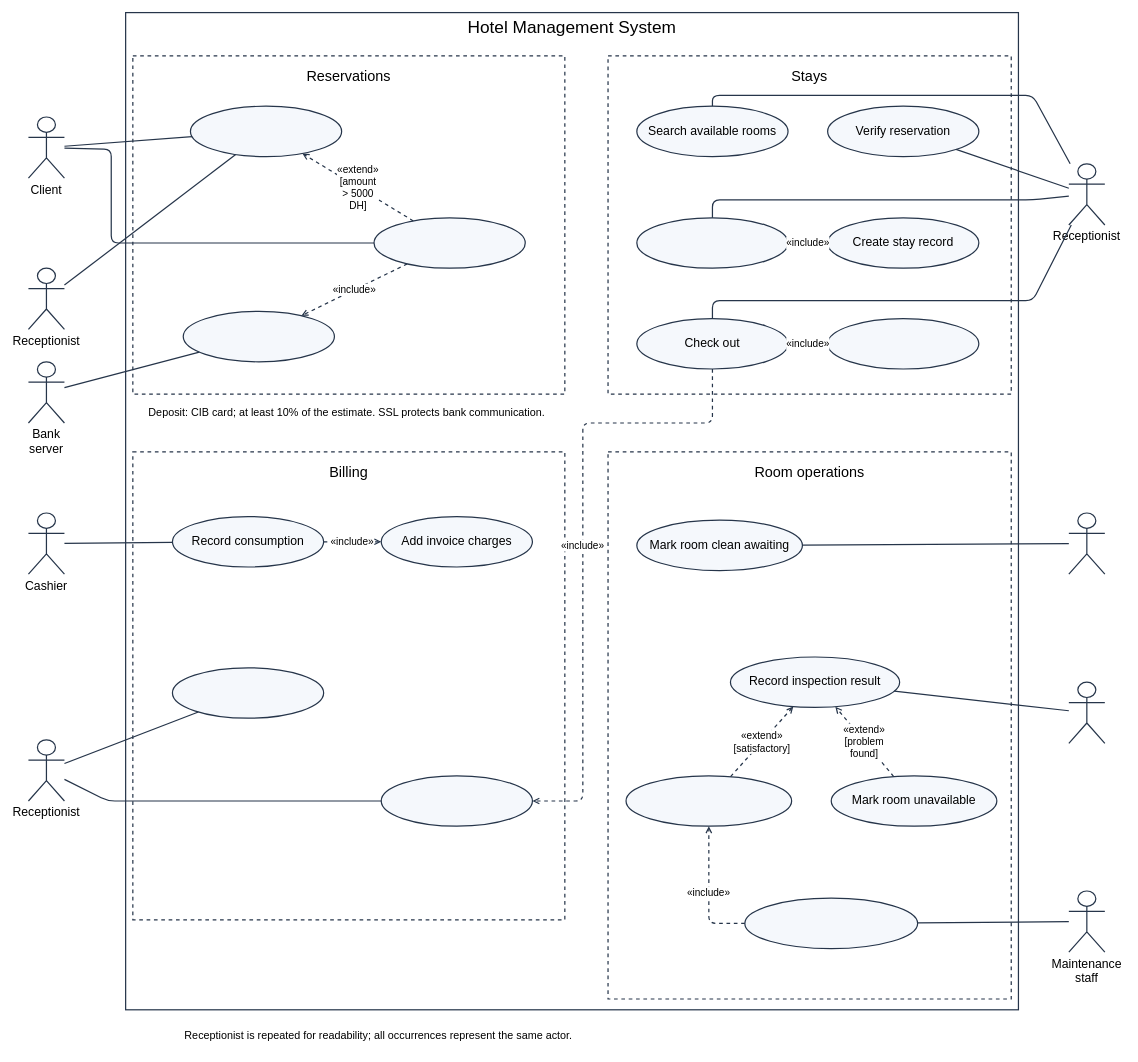
This 1138x1062 diagram has some shape labels left out. The box of each missing label's shape, as (x1, y1, x2, y2) in pixels:
Check in: (636, 217, 788, 268)
Close stay: (827, 318, 979, 369)
Finalize invoice: (380, 775, 533, 826)
Floor manager: (1068, 681, 1105, 744)
Generate stay invoice: (172, 667, 324, 718)
Housekeeping staff: (1068, 512, 1105, 574)
Make reservation: (190, 105, 342, 157)
Mark room available: (625, 775, 792, 826)
Pay online deposit: (373, 217, 526, 268)
Record completed repair: (744, 897, 918, 949)
Validate payment: (182, 310, 335, 362)
